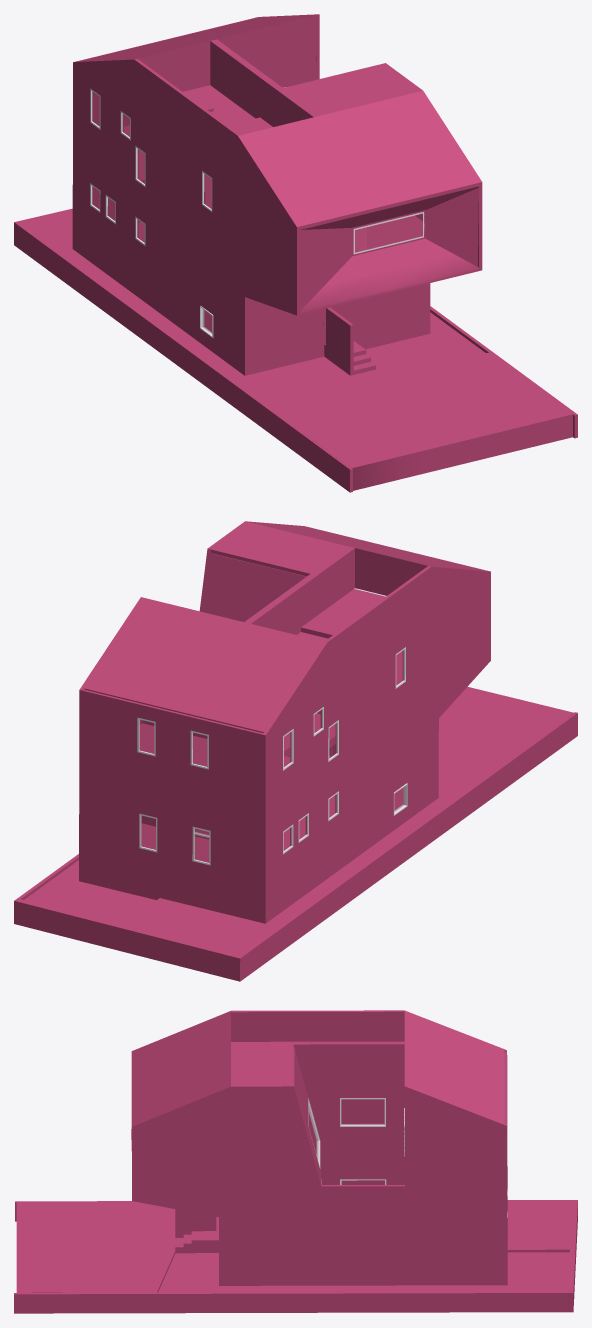
File: asset.glb
The picture shows the model from 3 angles, top to bottom: view 1: azimuth 30°, elevation 25°; view 2: azimuth 150°, elevation 25°; view 3: azimuth 270°, elevation 25°; orthographic projection. The views are drawn at different scales.
Parts seen in each view (by area): view 1: 3D_FACADE_BLACK, 3D_FIRST FLOOR, 3D_FACADE_REFLECTIVE, 3D_SURROUNDING CONTEXT, 3D_WALL, 3D_FLOOR, 3D_WINDOW FRAMES, 3D_TURF, 3D_FACADE_REFLECTIVE.001, 3d_Glass, Windows frames, 3D_FACADE_WHITE; view 2: 3D_FACADE_BLACK, 3D_FIRST FLOOR, 3D_SURROUNDING CONTEXT, 3D_FACADE_WHITE, 3D_TURF, 3D_FLOOR, 3D_WINDOW FRAMES, 3d_Glass, Windows frames, 3D_WALL; view 3: 3D_FACADE_BLACK, 3D_FIRST FLOOR, 3D_SURROUNDING CONTEXT, 3D_FACADE_WHITE, 3D_TURF, 3d_Glass, Windows frames.
Part boxes in pixels (x1,y1,x2,y2): 3D_FACADE_BLACK: (72, 14, 482, 363); 3D_FIRST FLOOR: (31, 212, 572, 490); 3D_FACADE_REFLECTIVE: (300, 186, 478, 314); 3D_SURROUNDING CONTEXT: (14, 208, 577, 492); 3D_WALL: (141, 18, 316, 91); 3D_FLOOR: (124, 85, 470, 262); 3D_WINDOW FRAMES: (210, 44, 309, 126); 3D_TURF: (366, 312, 485, 369); 3D_FACADE_REFLECTIVE.001: (425, 187, 478, 266); 3d_Glass: (92, 92, 422, 251); Windows frames: (90, 87, 425, 337); 3D_FACADE_WHITE: (210, 39, 282, 91); 3D_FACADE_BLACK: (79, 521, 490, 911); 3D_FIRST FLOOR: (79, 686, 574, 950); 3D_SURROUNDING CONTEXT: (14, 712, 577, 981); 3D_FACADE_WHITE: (203, 553, 317, 756); 3D_TURF: (24, 860, 156, 924); 3D_FLOOR: (139, 588, 386, 766); 3D_WINDOW FRAMES: (254, 552, 354, 634); 3d_Glass: (140, 650, 403, 862); Windows frames: (137, 647, 407, 865); 3D_WALL: (142, 551, 424, 839); 3D_FACADE_BLACK: (131, 1010, 507, 1272); 3D_FIRST FLOOR: (16, 1201, 571, 1292); 3D_SURROUNDING CONTEXT: (14, 1200, 577, 1313); 3D_FACADE_WHITE: (293, 1041, 404, 1184); 3D_TURF: (158, 1252, 569, 1292); 3d_Glass: (309, 1099, 384, 1184); Windows frames: (308, 1098, 507, 1217).
Size of the model in its own units: 14.52 by 15.8 by 37.21.
